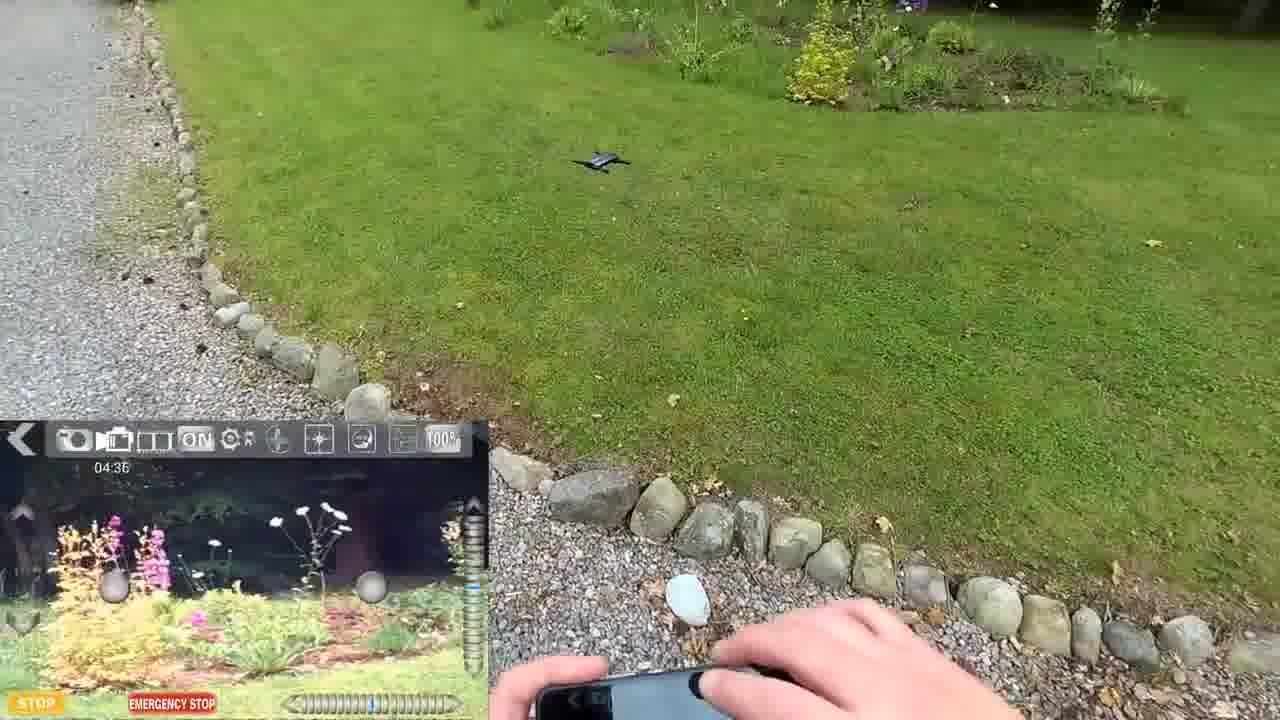drone: (562, 136, 646, 185)
